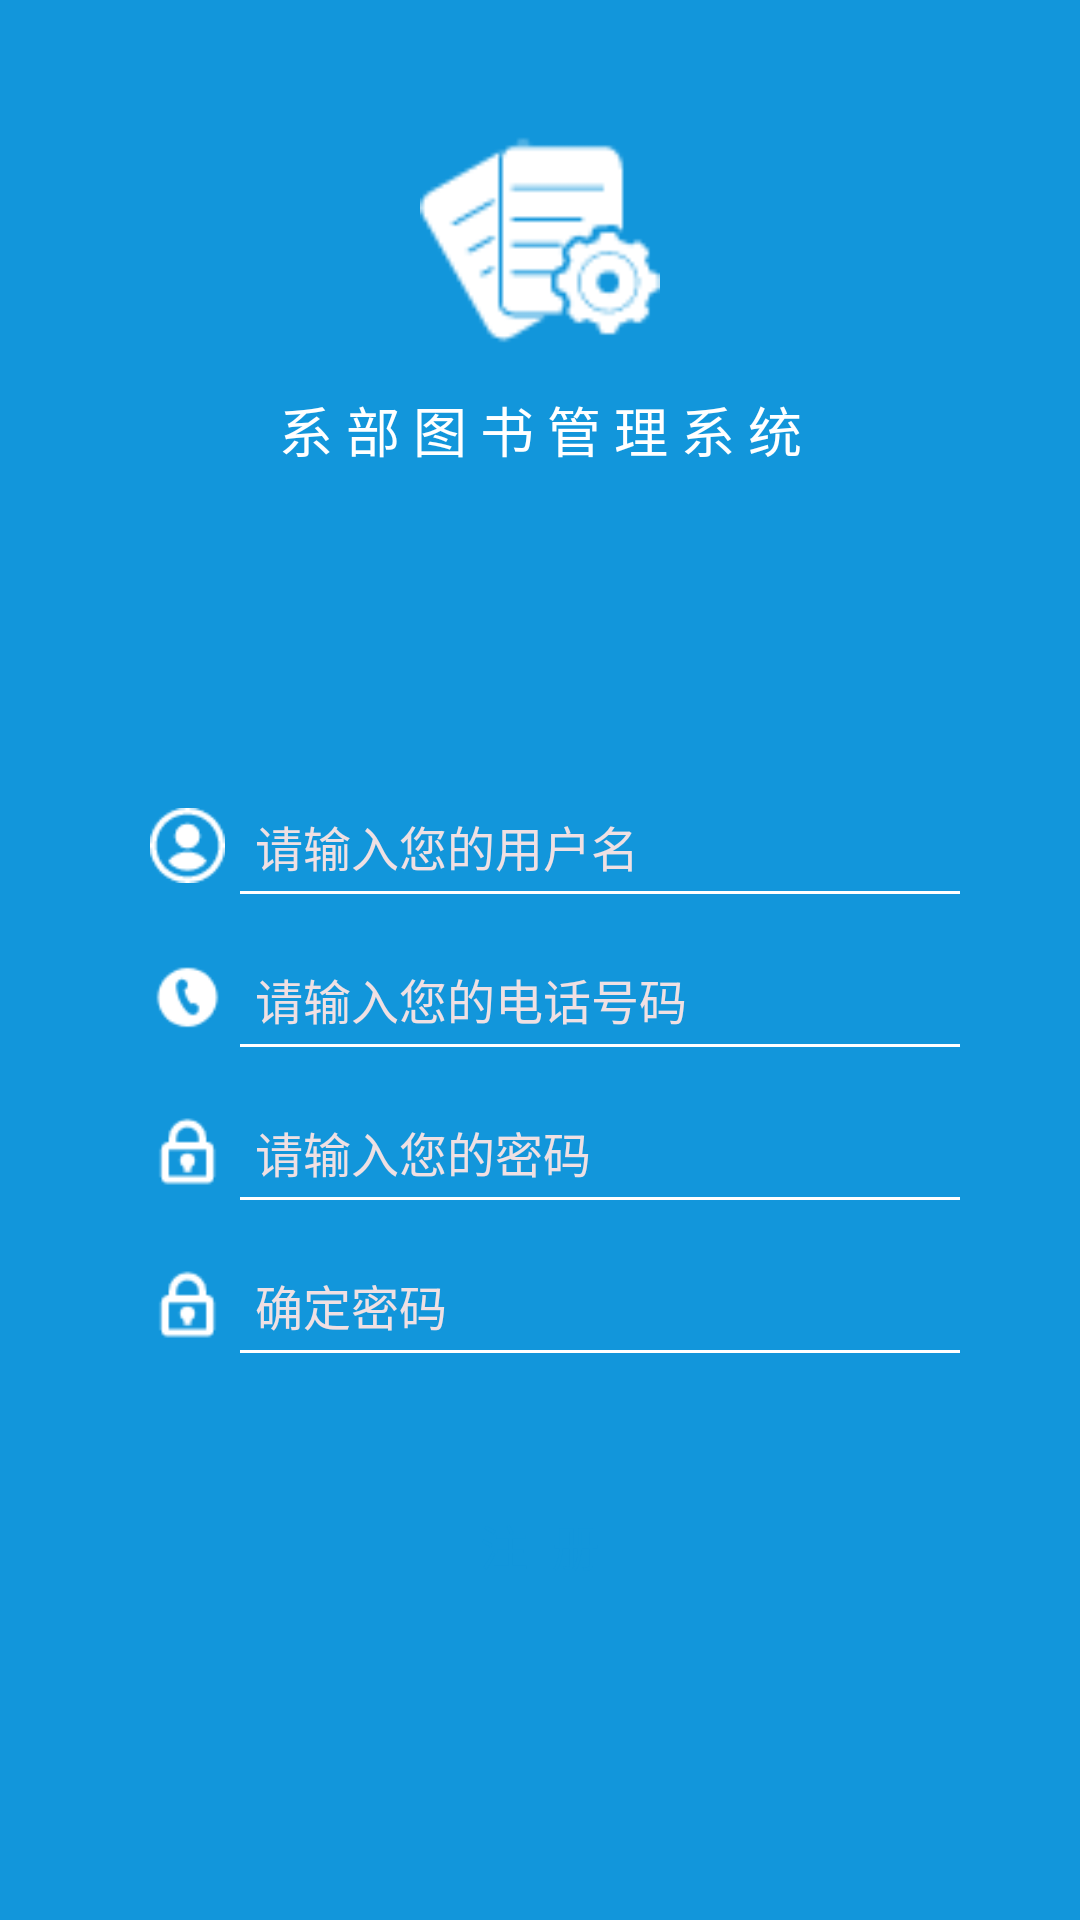

Locate icon controls on the screen. Image size 1080*1920, boxes as [x1, y1, x2, y2].
login pwd: [159, 1118, 216, 1185], [159, 1271, 216, 1338]
login tel: [156, 967, 219, 1028]
login user: [150, 808, 225, 883]
